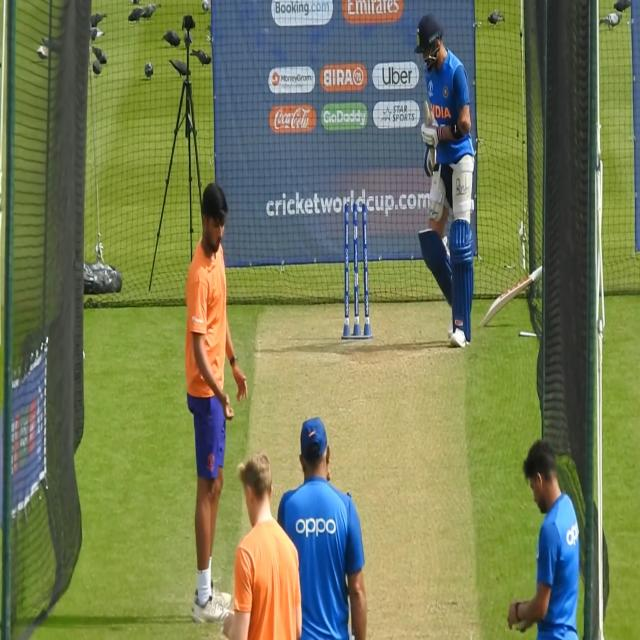stump: (343, 199, 369, 342)
